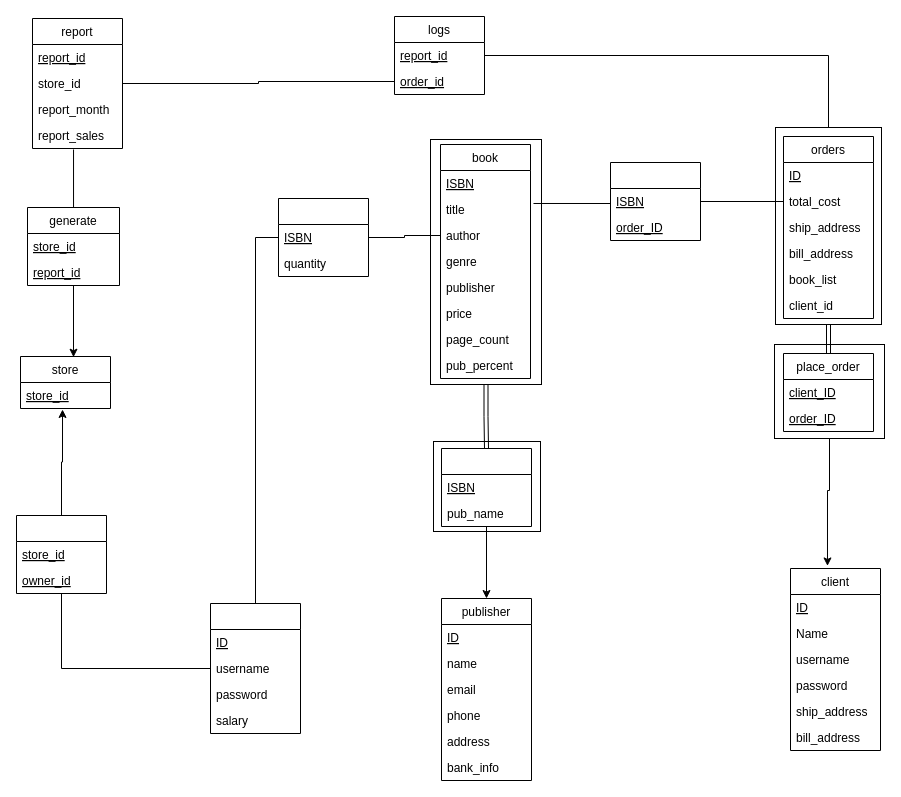
The diagram is 901 pixels wide and 797 high, and some of its shapes have lost their labels. The box of each missing label's shape, as (x1, y1, x2, y2) in pixels:
manages: (16, 514, 106, 594)
order_book: (610, 162, 700, 240)
owner: (210, 602, 300, 734)
publishes: (440, 448, 532, 526)
stock: (278, 198, 368, 276)
